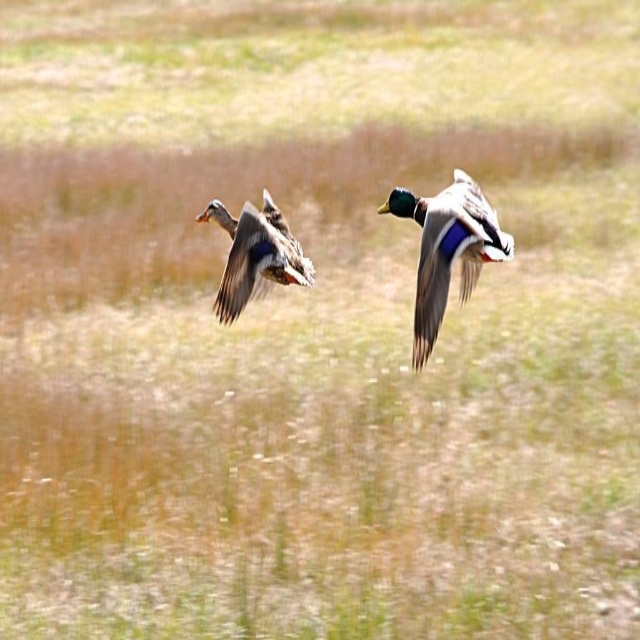Duck: (378, 158, 511, 362), (194, 179, 320, 318)
